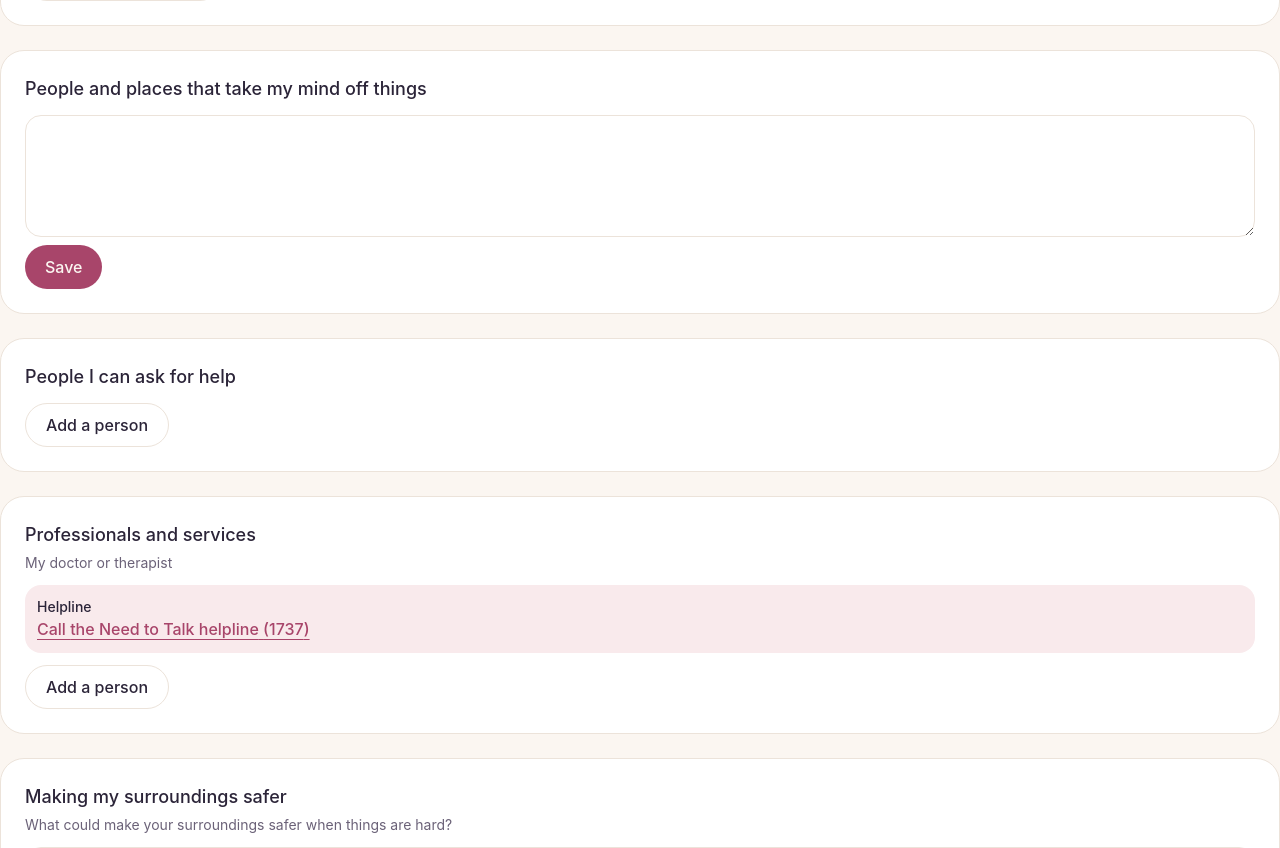
Scenario: SafetyPlanEditor › Add a person: Name and Phone number (optional), saved in its section
(page scrolled)
Step 1. Click the button with test id "plan-people-add" → (97,425), box left=25, top=403, right=169, bottom=447
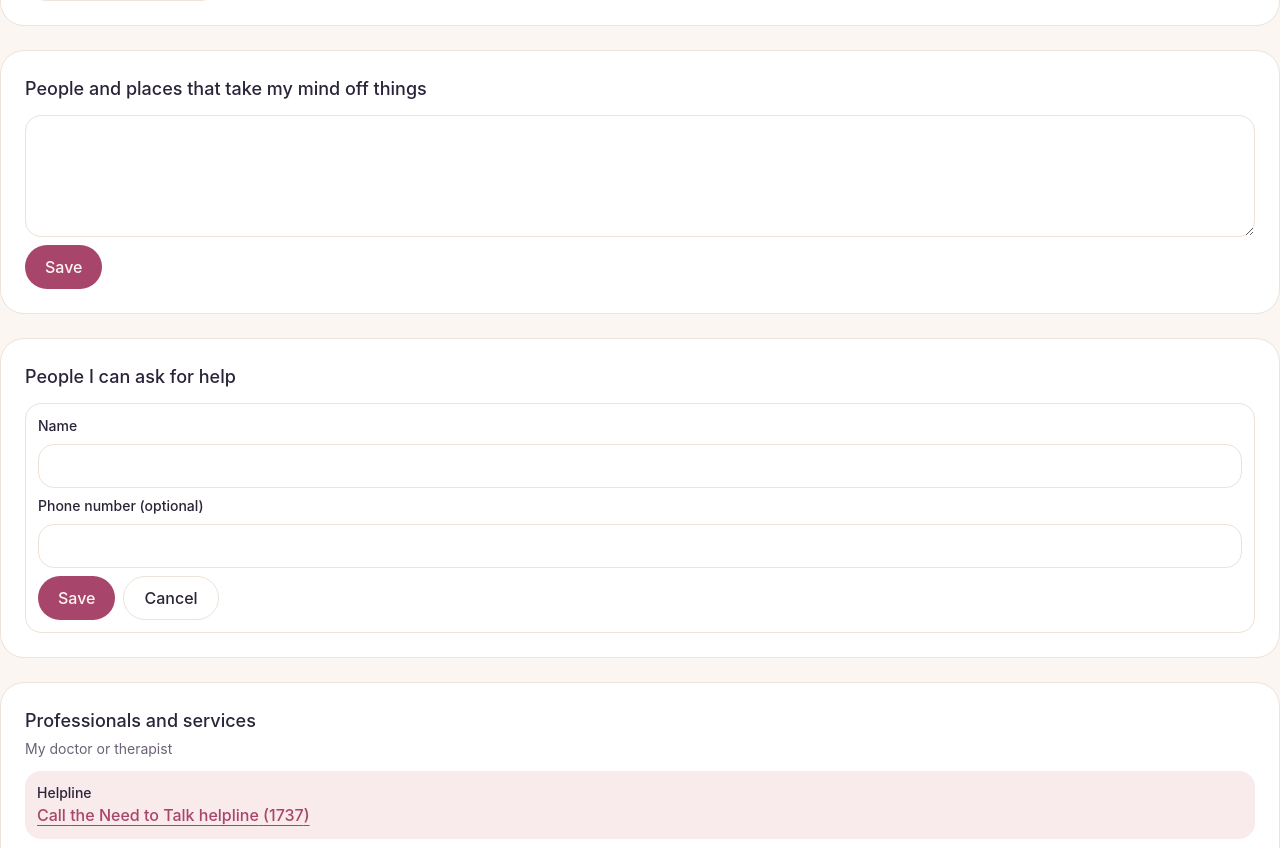
Expected: the field labelled "Name" is shown
Step 2. Type "Sam" into the field with test id "plan-name" → (640,466), box left=38, top=444, right=1242, bottom=488
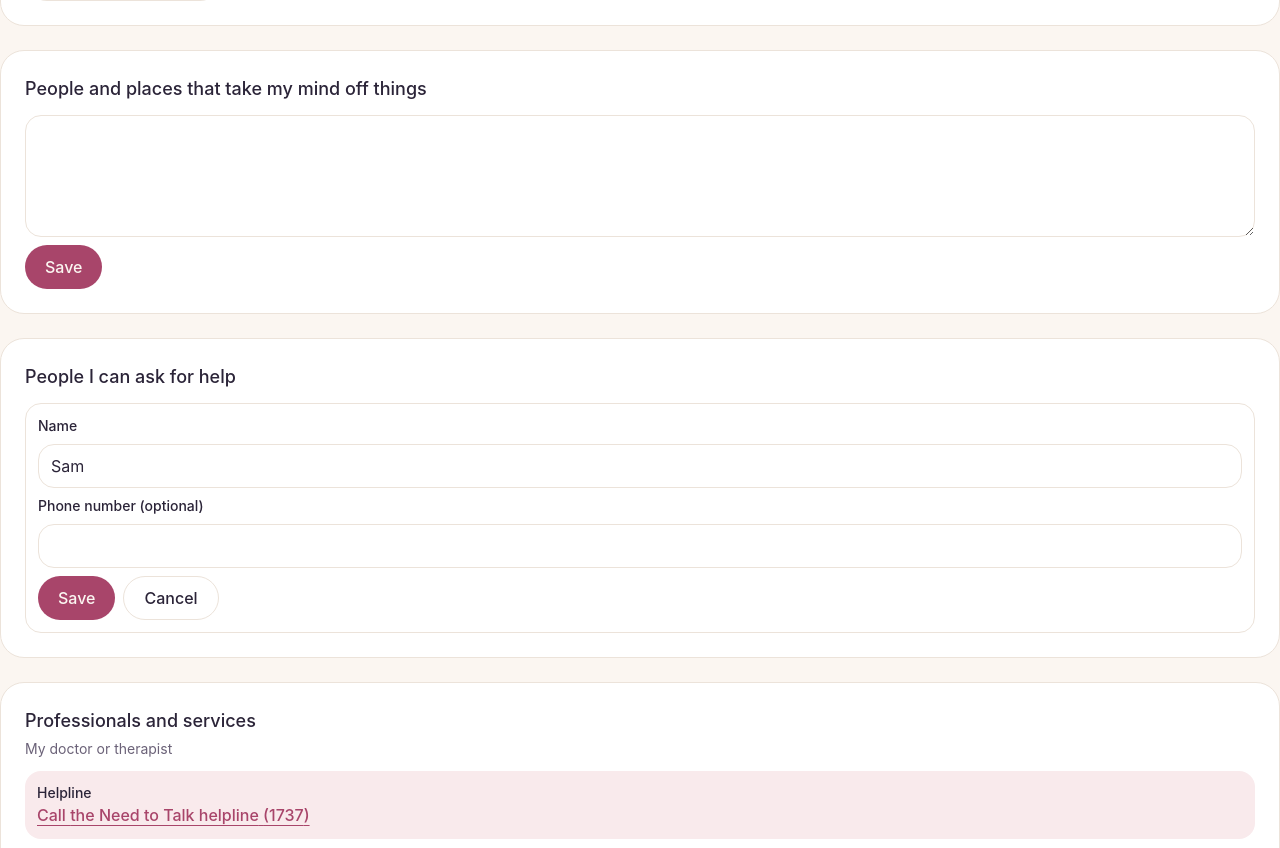
Step 3. Type "+64 21 555 0100" into the field labelled "Phone number (optional)" → (640,546), box left=38, top=524, right=1242, bottom=568
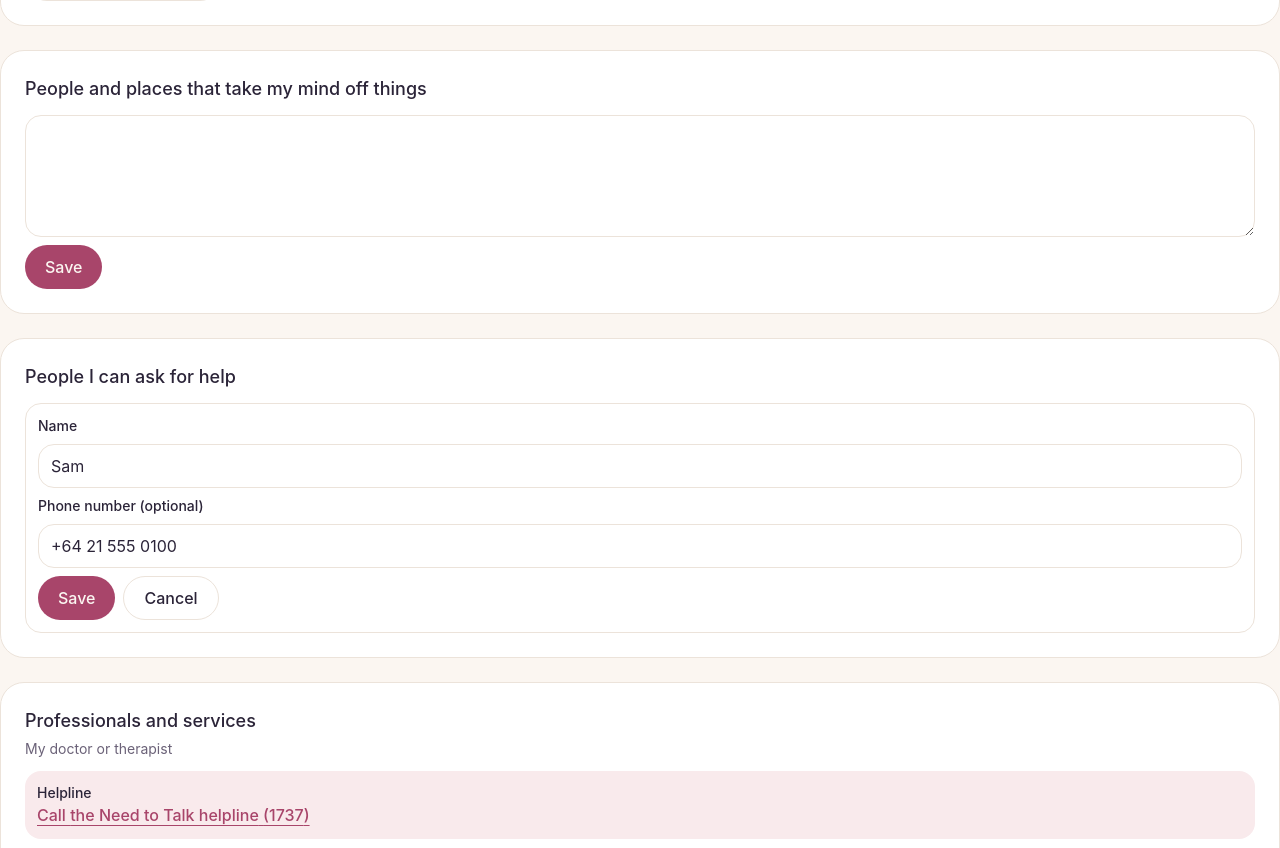
Step 4. Click the button with test id "plan-person-save" → (77,598), box left=38, top=576, right=116, bottom=620
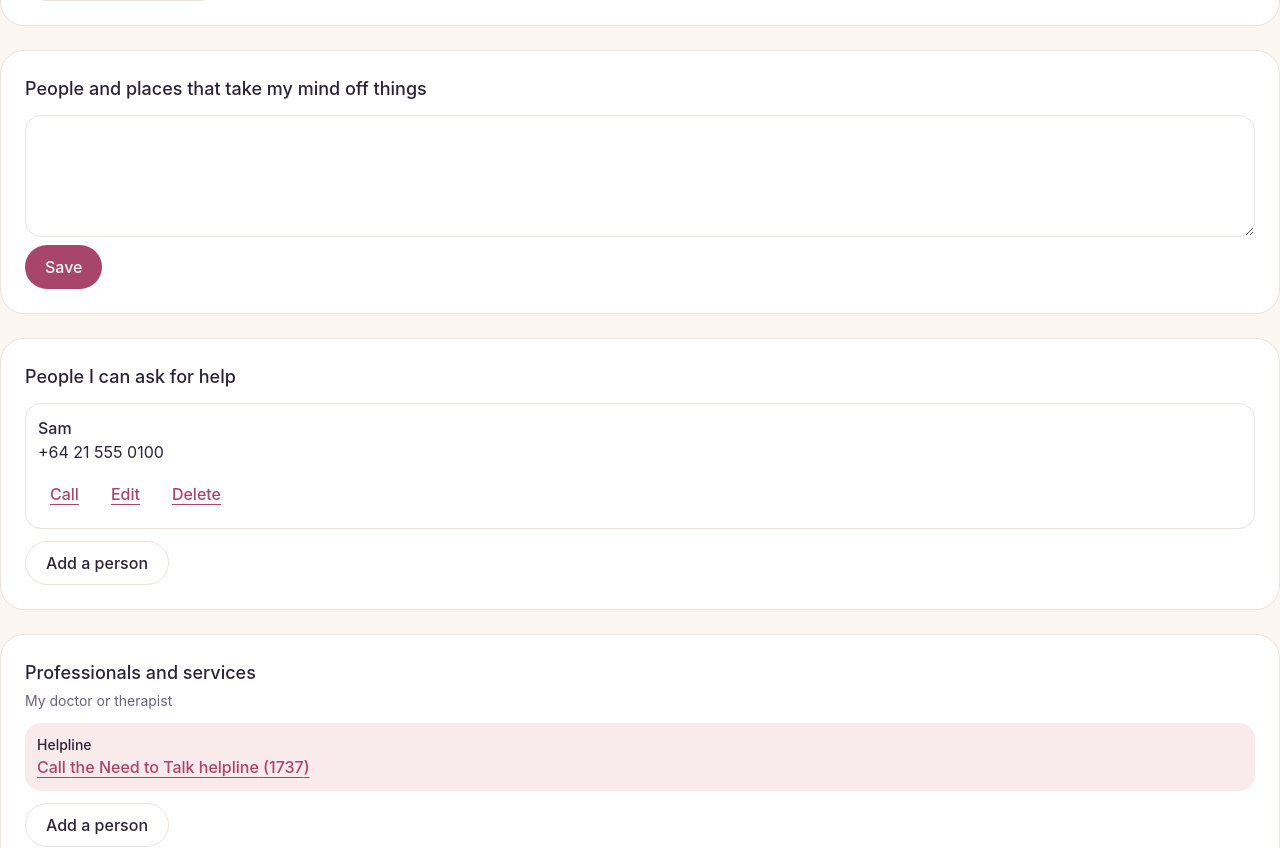
Expected: the number of list items with test id "plan-people-person" is 1, left=25, top=403, right=1255, bottom=529
